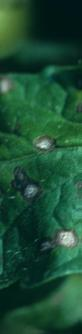Tomato Septoria leaf spot: (0, 52, 82, 320)
